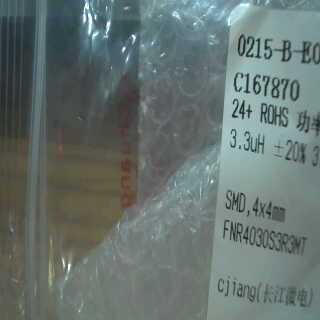3.3uH: (222, 125, 270, 160)
